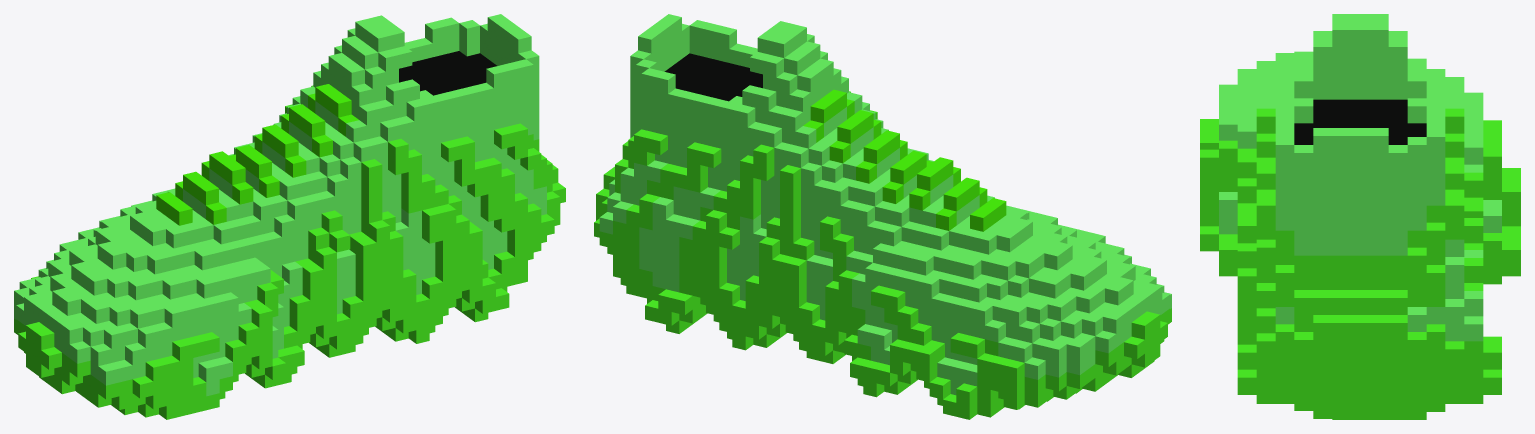
Rendered from Alien.fbx.
3 renders of one model, left to right at view 1: azimuth 30°, elevation 25°; view 2: azimuth 150°, elevation 25°; view 3: azimuth 270°, elevation 25°, orthographic. The views are drawn at different scales.
Parts seen in each view (by area): view 1: Untitled; view 2: Untitled; view 3: Untitled.
Boxes of the visible parts, x1=… form: Untitled: x1=14, y1=14, x2=565, y2=419; Untitled: x1=594, y1=14, x2=1171, y2=419; Untitled: x1=1200, y1=14, x2=1520, y2=419.
Size of the model in its own units: 390 by 200 by 170.
